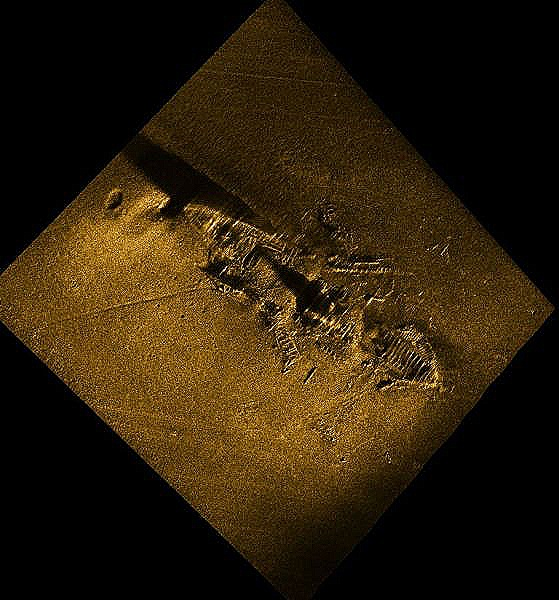ship: (181, 201, 446, 396)
